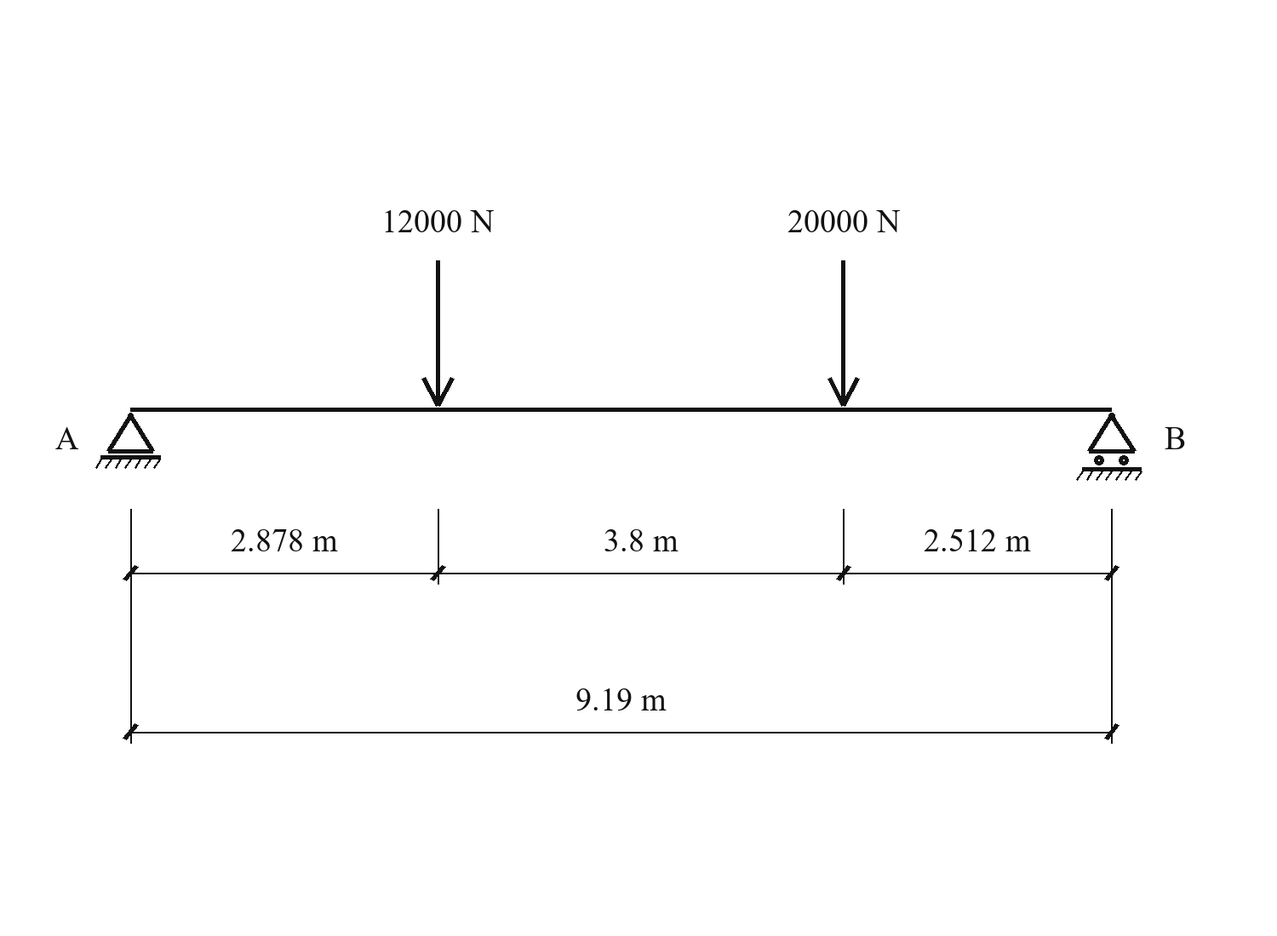pin_support: (95, 413, 161, 469)
point_load: (421, 260, 455, 407), (827, 260, 860, 407)
roller_support: (1076, 413, 1142, 481)
